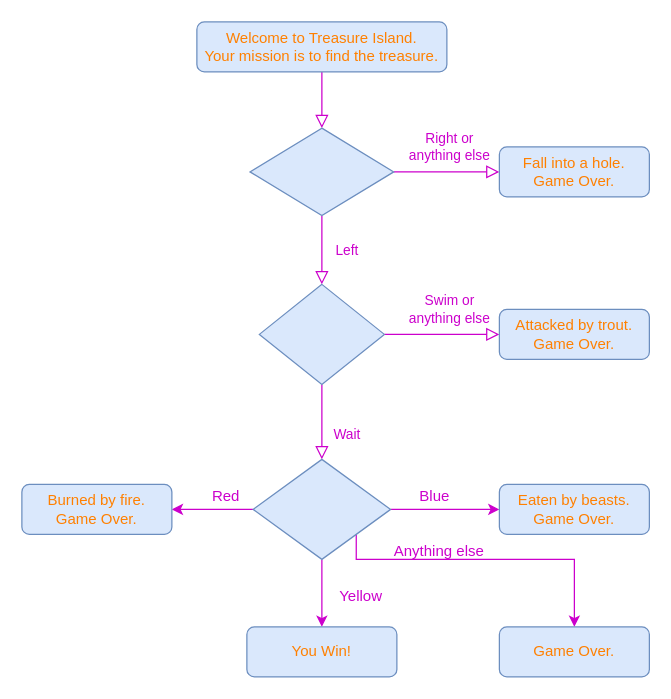
The diagram is 671 pixels wide and 699 high, and some of its shapes have lost their labels. Here are the shapes that lost their labels. From the top down, the centre of each, then its label:
At [321,171]: "left or right?".
At [321,333]: "swim or wait".
At [321,508]: "Which door?".
